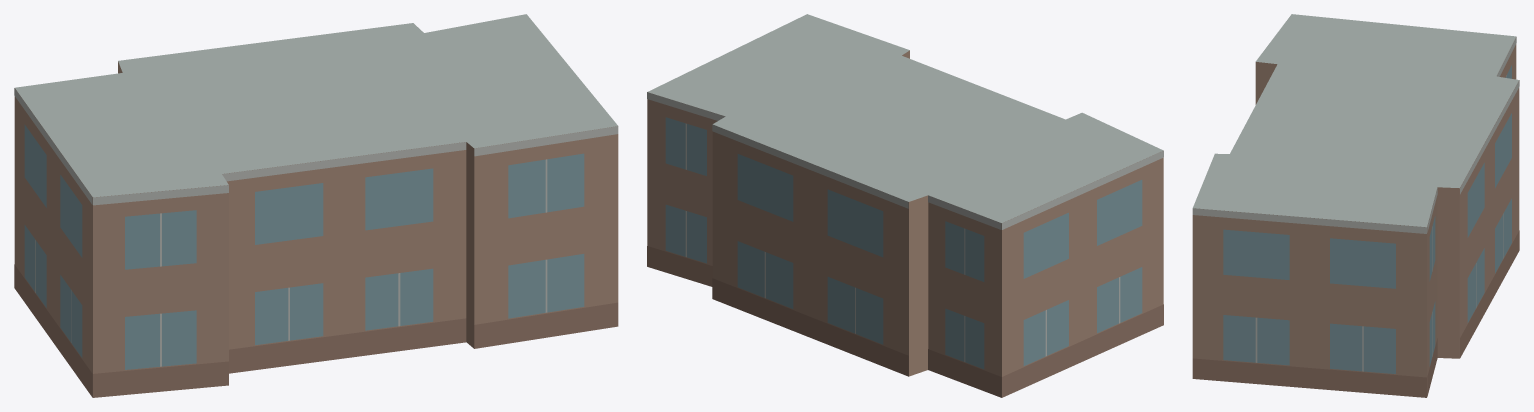
The model's file is survey-upis-32679314.glb.
3 views of the same model, side by side, from view 1: azimuth 30°, elevation 25°; view 2: azimuth 150°, elevation 25°; view 3: azimuth 270°, elevation 25° (orthographic). The views are drawn at different scales.
Parts seen in each view (by area): view 1: survey-upis-32679314.tmp; view 2: survey-upis-32679314.tmp; view 3: survey-upis-32679314.tmp.
Part boxes in pixels (x1,y1,x2,y2): survey-upis-32679314.tmp: [14, 14, 618, 397]; survey-upis-32679314.tmp: [647, 14, 1163, 397]; survey-upis-32679314.tmp: [1192, 14, 1519, 397].
Bounding box in the file's own units: 16.36 × 6.1 × 10.6.
